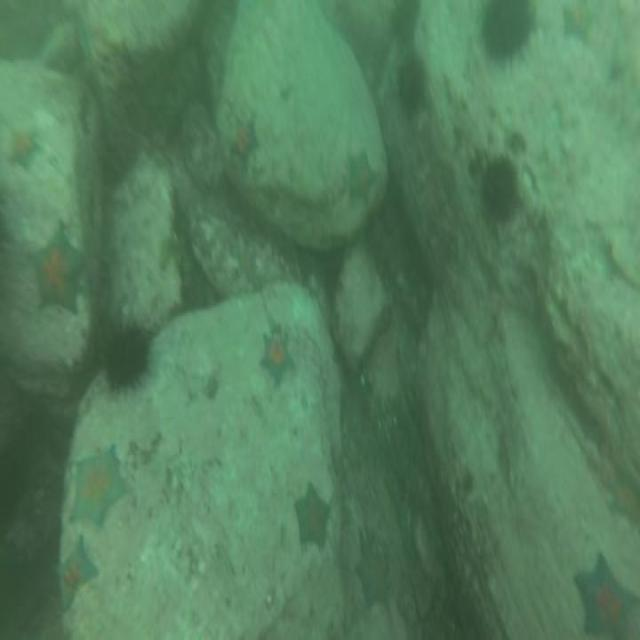echinus: (474, 0, 540, 70), (100, 311, 150, 403), (475, 144, 521, 229), (394, 49, 428, 125), (320, 240, 348, 307), (388, 0, 424, 40)
starfish: (571, 545, 640, 640), (66, 439, 130, 539), (28, 228, 86, 319), (51, 536, 102, 616), (352, 526, 394, 616), (292, 478, 334, 554), (602, 463, 640, 531), (344, 144, 379, 212), (227, 109, 260, 175), (260, 328, 296, 388), (559, 0, 601, 49), (6, 126, 44, 176)
